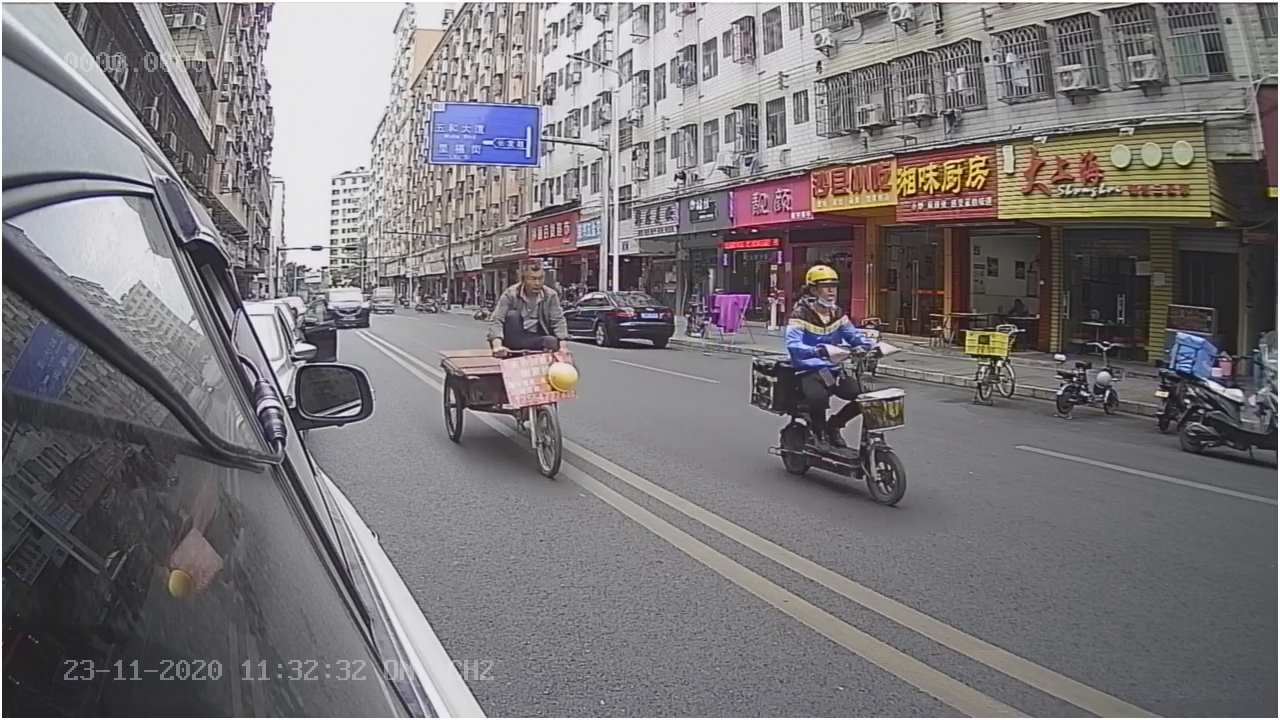person: (489, 260, 576, 358), (784, 260, 866, 353)
